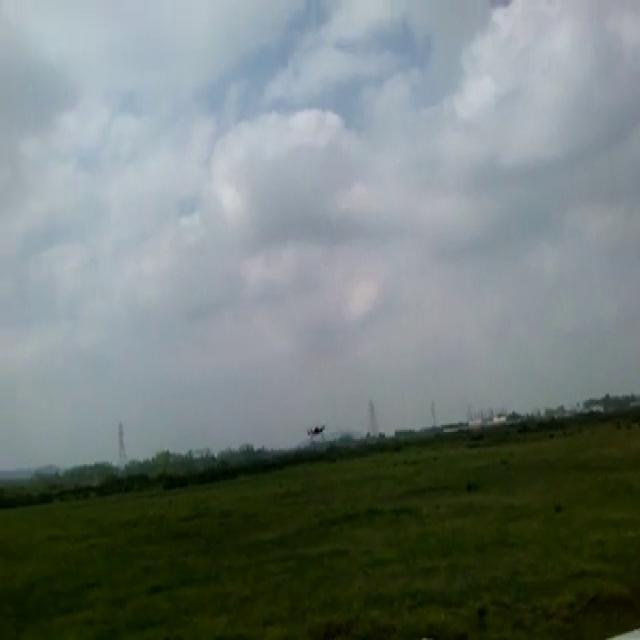drone: (307, 418, 328, 442)
